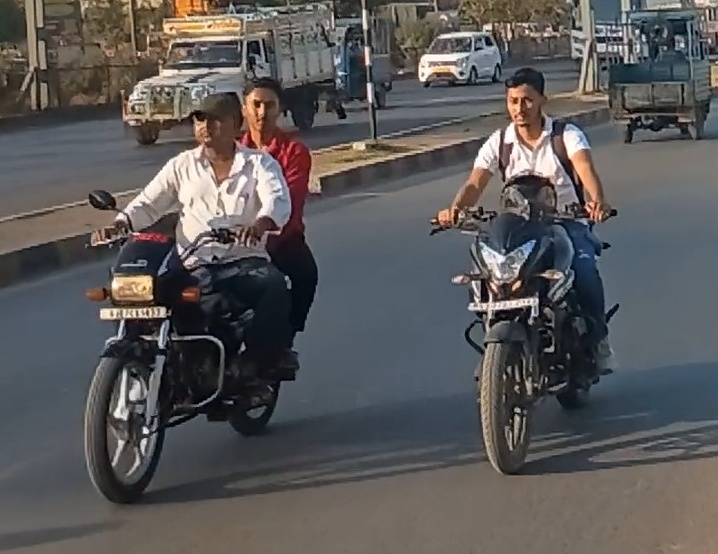BikeWithRider: (69, 67, 329, 510), (424, 61, 627, 482)
NoHelmet: (184, 87, 248, 158), (496, 62, 554, 132), (234, 71, 288, 142)
